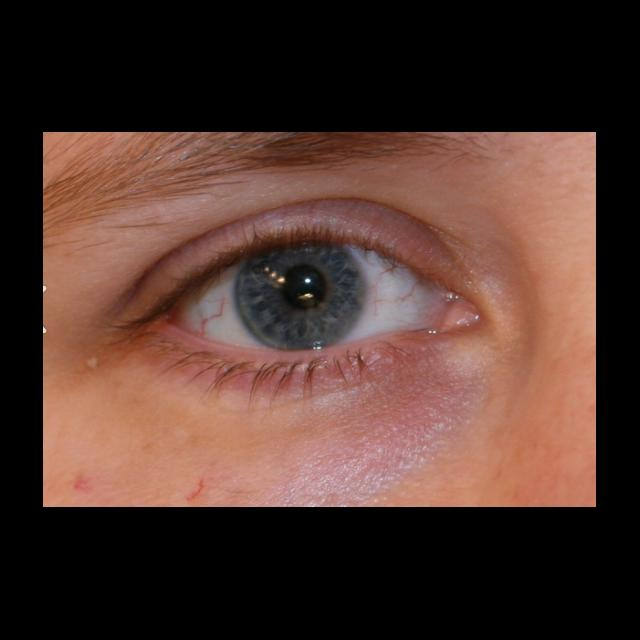eye: (175, 241, 439, 354)
iris: (236, 245, 364, 350)
